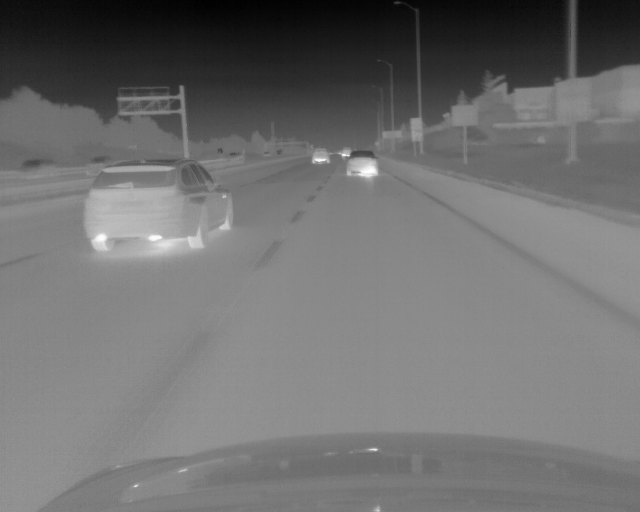car: (83, 159, 233, 253), (346, 150, 378, 177), (20, 158, 56, 168), (311, 147, 330, 164), (340, 147, 350, 158)
